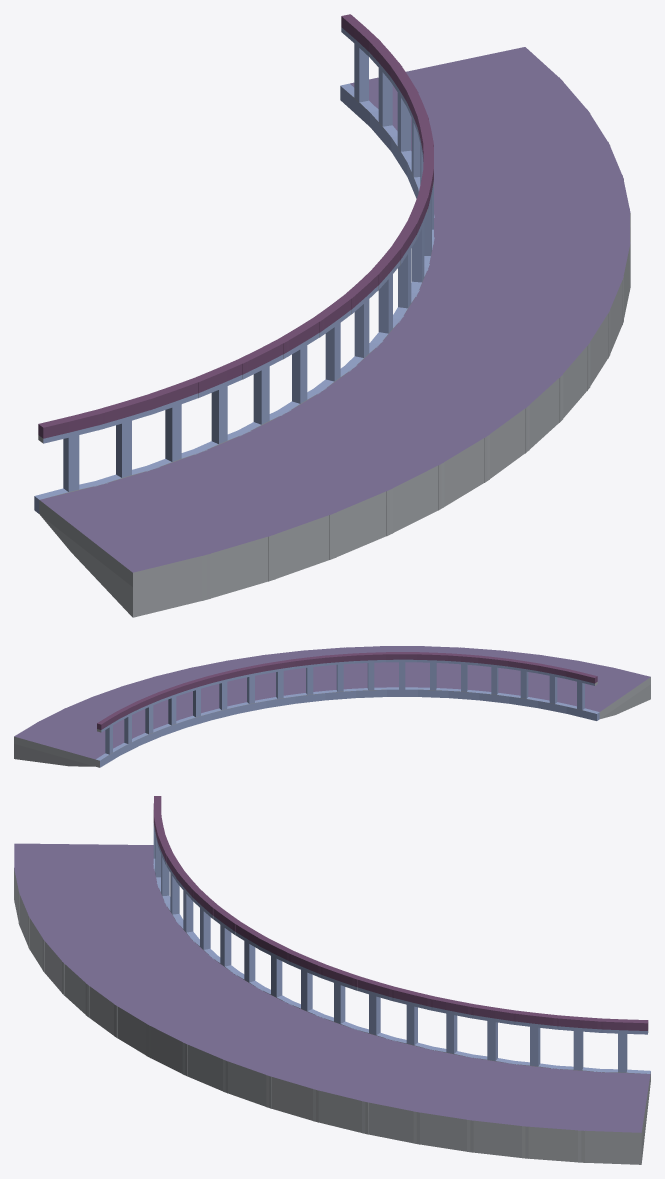
The model's file is MainInterierBalcon.fbx.
3 renders of one model, top to bottom at view 1: azimuth 30°, elevation 25°; view 2: azimuth 150°, elevation 25°; view 3: azimuth 270°, elevation 25°, orthographic. The views are drawn at different scales.
Visible parts, largest first — view 1: balcon; view 2: balcon; view 3: balcon.
Boxes of the visible parts, x1,y1,x2,y2 form: balcon: (34,14,630,617); balcon: (14,646,650,767); balcon: (14,796,650,1164).
Bounding box in the file's own units: 2146 × 285 × 1996.
